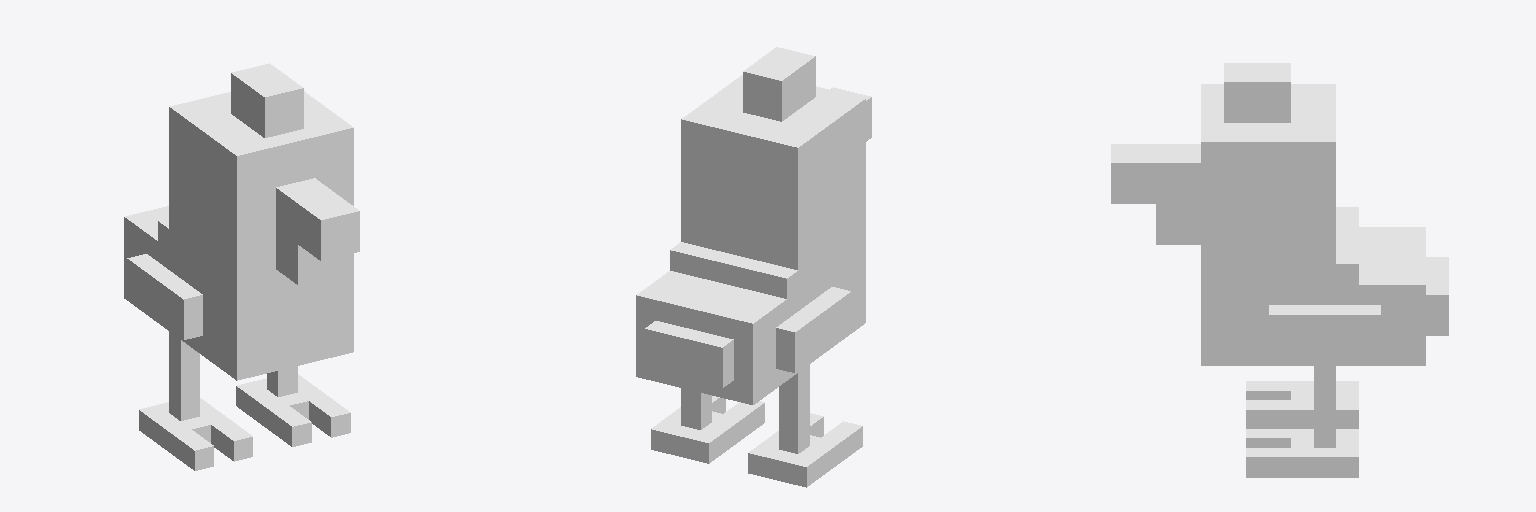
Rendered from gaD19+1.obj.
3 renders of one model, left to right at view 1: azimuth 30°, elevation 25°; view 2: azimuth 150°, elevation 25°; view 3: azimuth 270°, elevation 25°, orthographic.
Parts seen in each view (by area): view 1: object 1; view 2: object 1; view 3: object 1.
Part boxes in pixels (bbox=[...]): object 1: bbox=[124, 63, 359, 470]; object 1: bbox=[636, 47, 871, 487]; object 1: bbox=[1111, 63, 1448, 477].
Bounding box in the file's own units: 0.8 × 1.8 × 1.5.